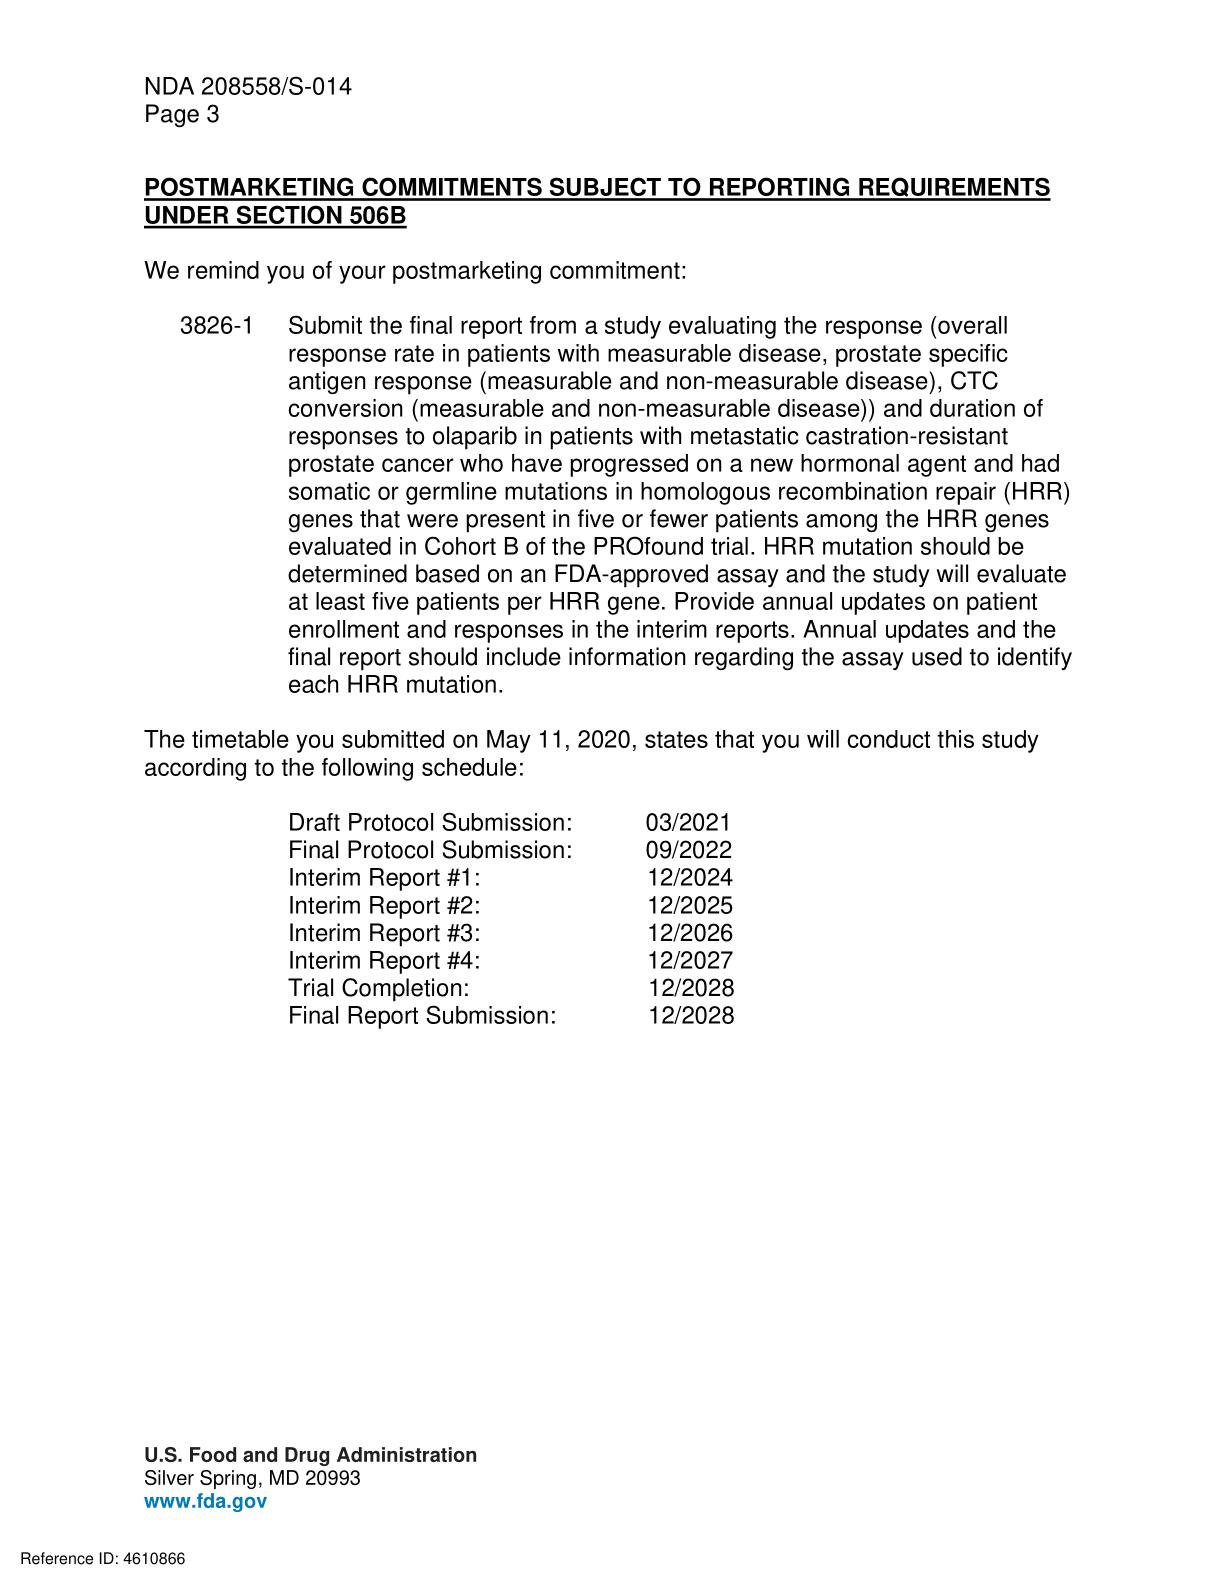nolines: (282, 809, 738, 1031)
